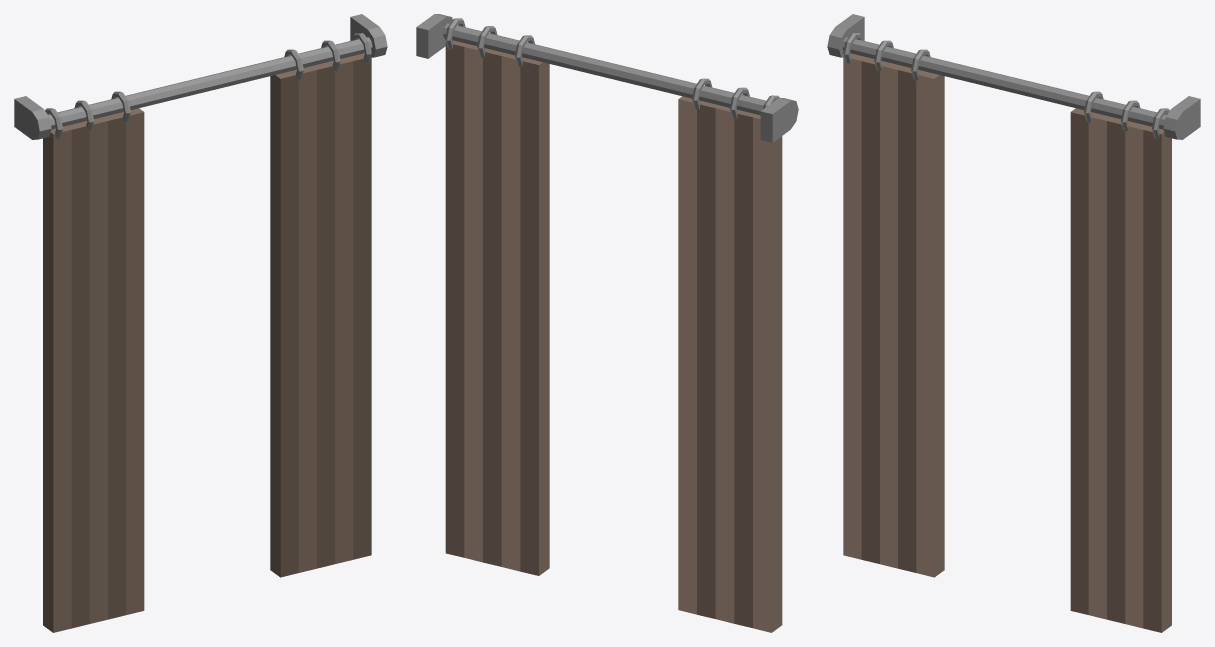
File: Curtains_02.fbx
3 views of the same model, side by side, from view 1: azimuth 30°, elevation 25°; view 2: azimuth 150°, elevation 25°; view 3: azimuth 330°, elevation 25° (orthographic). The views are drawn at different scales.
Visible parts, largest first — view 1: Curtains_02; view 2: Curtains_02; view 3: Curtains_02.
Part boxes in pixels (x1,y1,x2,y2): Curtains_02: (14, 14, 387, 632); Curtains_02: (416, 14, 798, 632); Curtains_02: (827, 14, 1200, 632).
Bounding box in the file's own units: 95.44 × 136 × 13.06.
